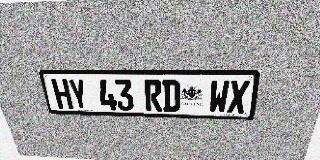3: (114, 79, 134, 111)
4: (97, 79, 118, 110)
D: (162, 80, 180, 112)
H: (51, 79, 74, 109)
R: (144, 79, 162, 111)
W: (208, 80, 230, 113)
X: (227, 80, 250, 113)
Y: (67, 79, 89, 109)
